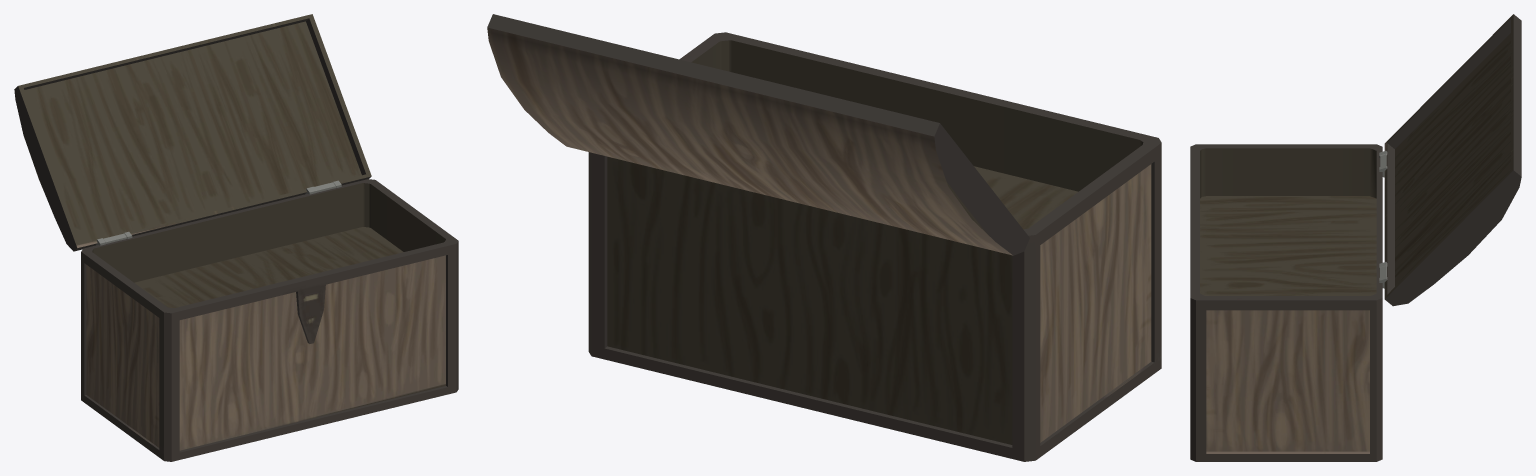
The model's file is chest 02.fbx.
3 views of the same model, side by side, from view 1: azimuth 30°, elevation 25°; view 2: azimuth 150°, elevation 25°; view 3: azimuth 270°, elevation 25° (orthographic). The views are drawn at different scales.
Parts seen in each view (by area): view 1: pCube12; view 2: pCube12; view 3: pCube12.
Boxes of the visible parts, left/top/right/bottom form: pCube12: left=14, top=14, right=458, bottom=461; pCube12: left=487, top=14, right=1161, bottom=461; pCube12: left=1190, top=14, right=1521, bottom=461.
Bounding box in the file's own units: 14.22 × 12.38 × 12.75.
